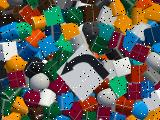Left: (56, 44, 110, 102)
